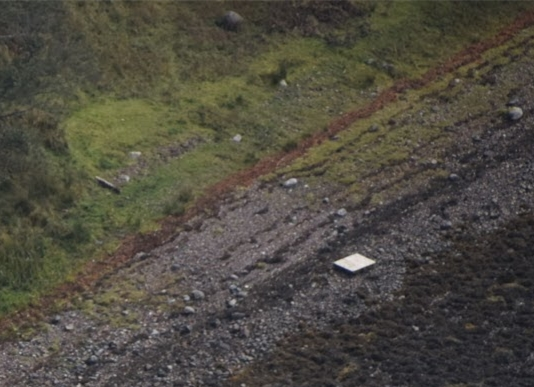cuboid: (328, 245, 380, 279)
straight_bar: (83, 163, 130, 201)
